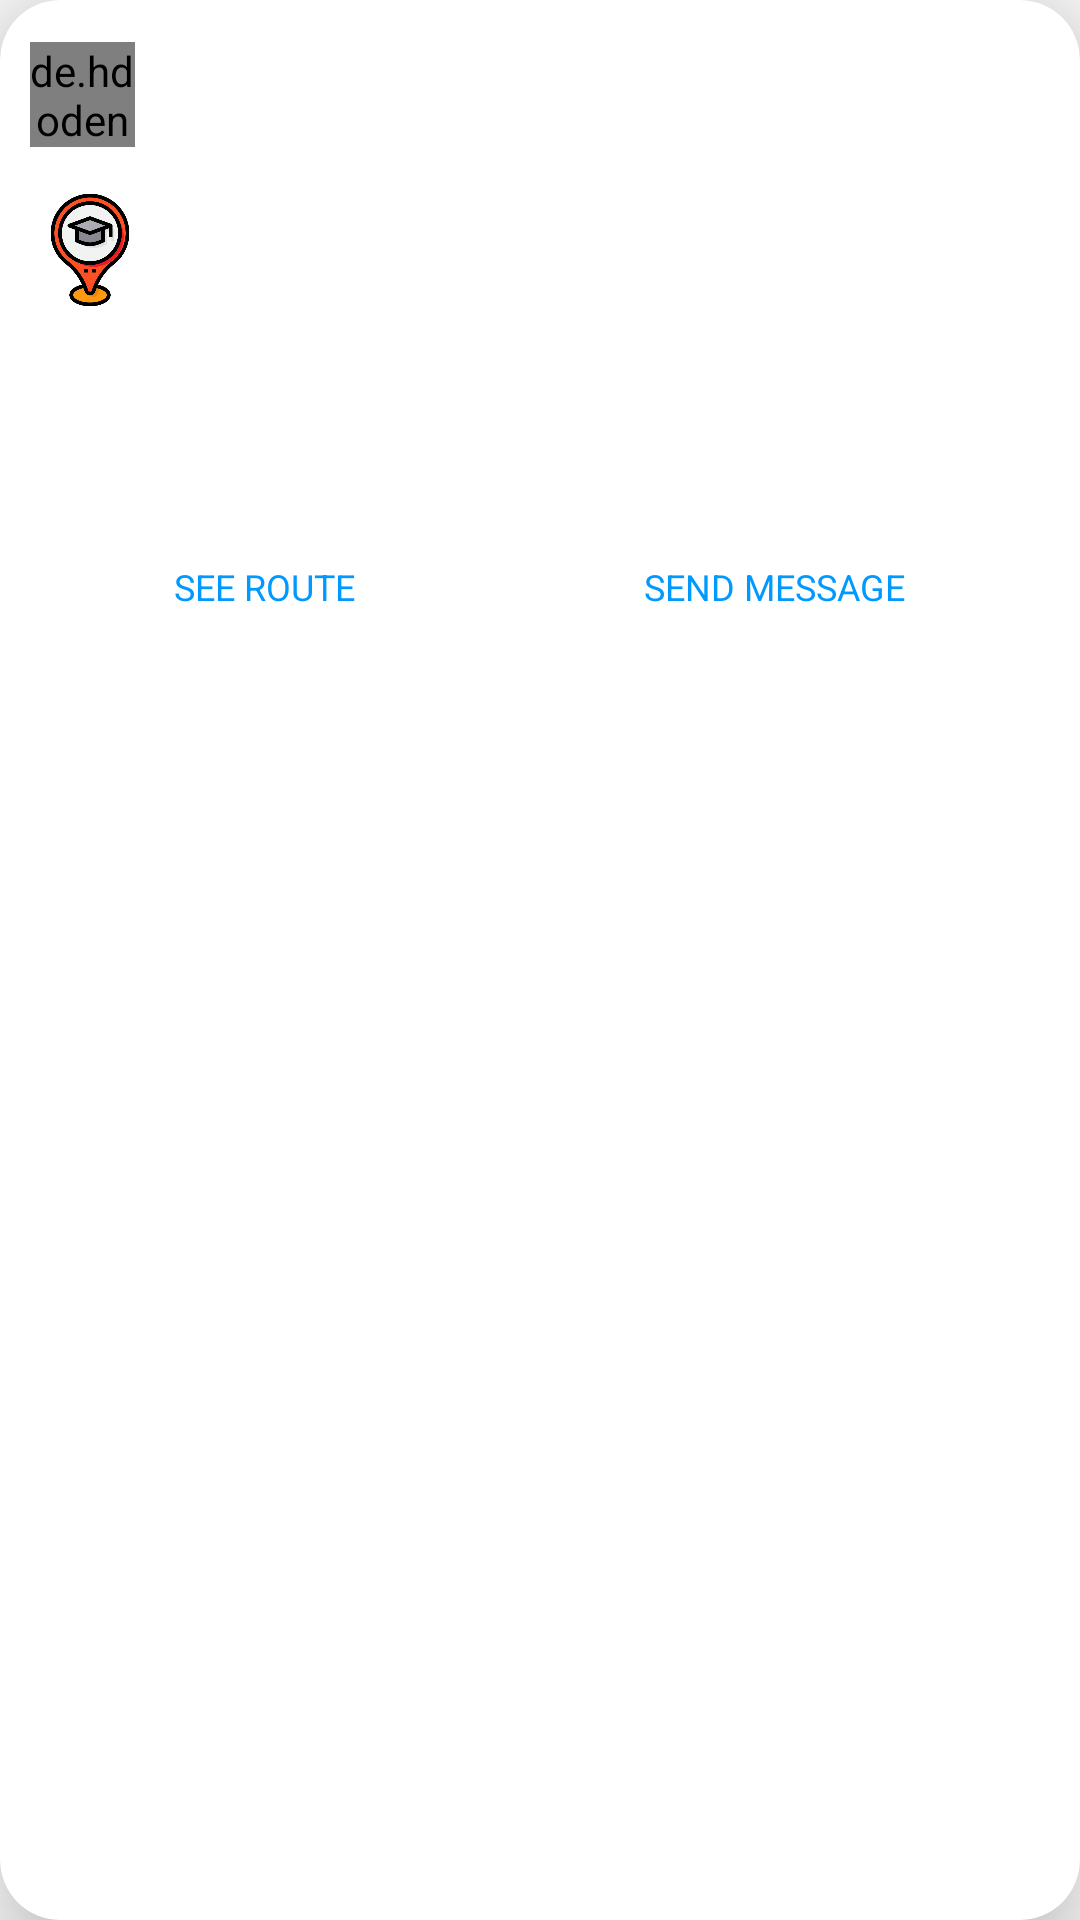

Named icons in this screenshot (1080*1920) and their centers, point (x, y):
uni location: point (90, 250)
